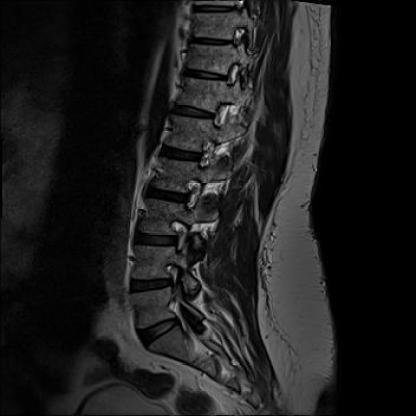Annular Disc Relaxationrotation: (133, 230, 177, 252), (159, 146, 199, 166)
Degenerative Disc Diseaserotation: (143, 186, 189, 206), (129, 276, 177, 294)
Disc Bulgerotation: (136, 319, 184, 342), (144, 186, 190, 206), (128, 277, 176, 294)
